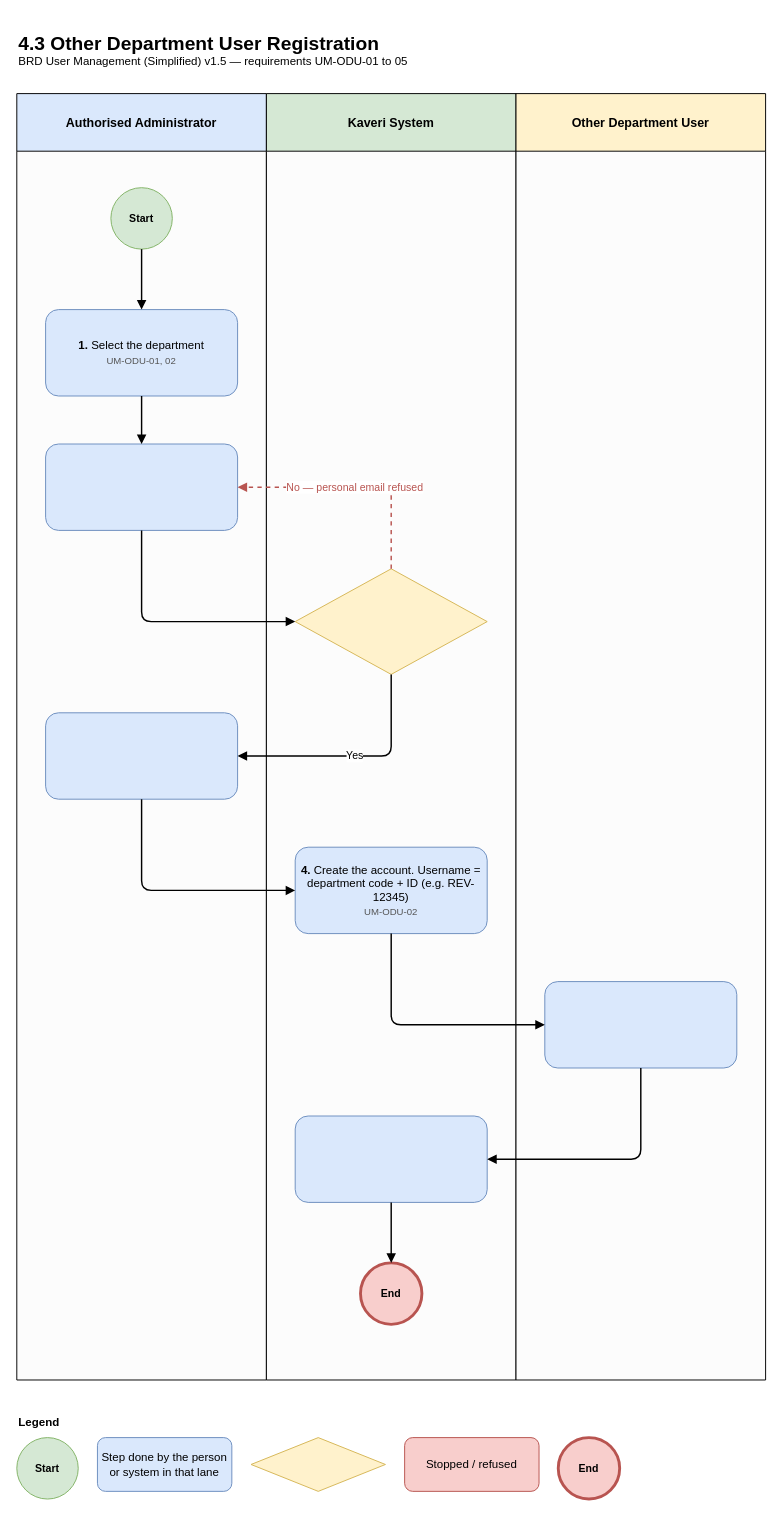
This 782x1517 diagram has some shape labels left out. The shapes that lost their labels are listed below. From the top down, each one's centre as x and y in pixels, then its label:
the point at 141,486: 2. Enter Employee ID or KGID, official email and mobile UM-ODU-02
the point at 390,621: Official email allowed? UM-ODU-03
the point at 141,755: 3. Choose one Other Department role; add an End Date if needed UM-ODU-04, 05
the point at 640,1024: 5. Sign in with Username, Captcha and OTP UM-LOG-02
the point at 390,1158: 6. Stop the account automatically on the End Date (if given) UM-ODU-05
the point at 317,1464: Check / choice
